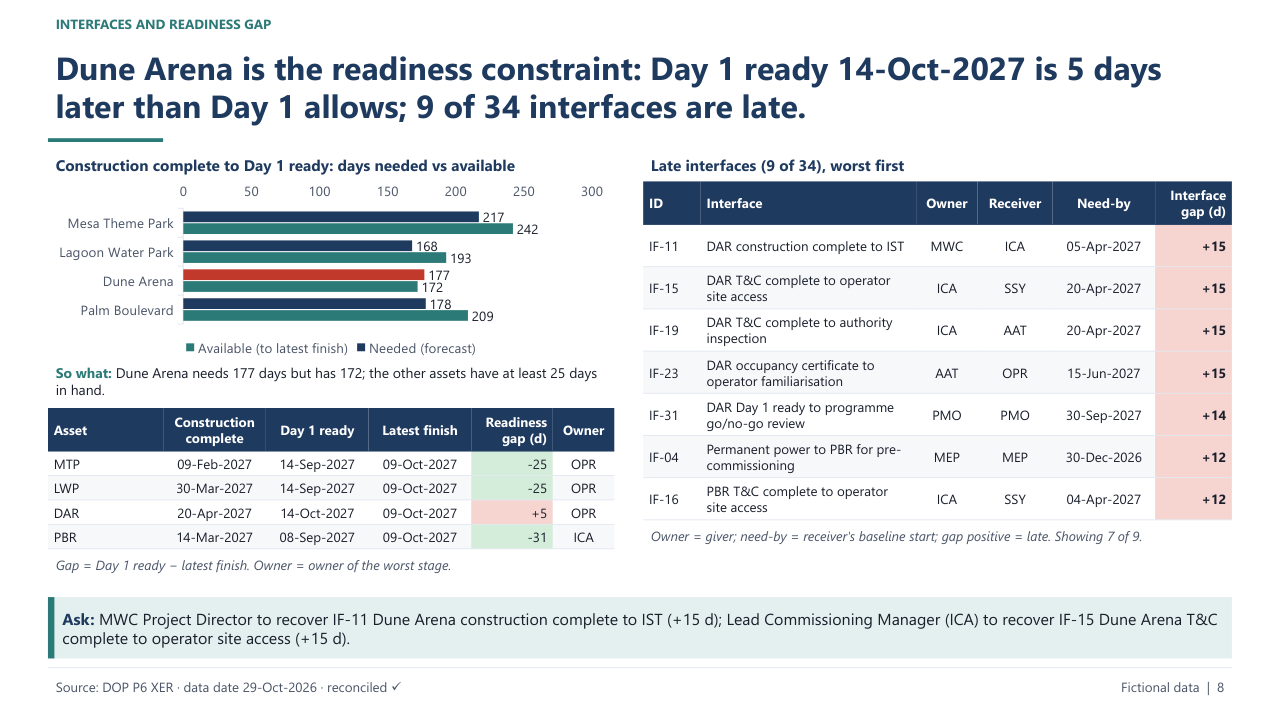

This screenshot's page, from the dashboard's own definition file:
{"tool":"powerbi","page":{"name":"Interfaces & readiness","canvas":[1280,720],"ordinal":3},"visuals":[{"type":"textbox","box":[16,8,1032,56],"z":1000},{"type":"slicer","fields":{"Values":["dim_snapshot.data_date"]},"box":[1064,8,200,56],"z":2000},{"type":"card","fields":{"Values":["_Measures.Title - Interfaces and readiness"]},"box":[16,80,1248,48],"z":3000},{"type":"cardVisual","title":"Interfaces and readiness for the selected update","fields":{"Data":["_Measures.Interfaces late","_Measures.Interfaces at risk","_Measures.Interface gap (max)","_Measures.Readiness gap","_Measures.Readiness stages late"]},"box":[16,144,1248,120],"z":4000},{"type":"pivotTable","title":"Readiness chain by asset: forecast and gap to the date that protects Day 1 (calendar days; positive = late)","fields":{"Rows":["fact_readiness.asset_code"],"Columns":["fact_readiness.stage"],"Values":["Max(fact_readiness.forecast)","_Measures.Readiness gap"]},"box":[16,280,1248,204],"z":5000},{"type":"pivotTable","title":"Late interfaces by giver and receiver asset","fields":{"Rows":["fact_interface.giver_asset"],"Columns":["fact_interface.receiver_asset"],"Values":["_Measures.Interfaces late"]},"box":[16,500,420,204],"z":6000},{"type":"tableEx","title":"Interfaces sorted by gap (calendar days; positive = late)","fields":{"Values":["fact_interface.interface_id","fact_interface.description","fact_interface.giver_owner","fact_interface.receiver_owner","fact_interface.need_by","fact_interface.giver_forecast","fact_interface.gap_days","fact_interface.status","dim_activity.activity_id"]},"box":[452,500,812,204],"z":7000}]}

Visuals, with their boxes in screenshot pixels (x1, y1, x2, y2), scaled from the page's 1280x720 canvas onto the 1280x721 screenshot:
textbox: rect(16, 8, 1048, 64)
slicer - dim_snapshot.data_date: rect(1064, 8, 1264, 64)
card - _Measures.Title - Interfaces and readiness: rect(16, 80, 1264, 128)
"Interfaces and readiness for the selected update" cardVisual: rect(16, 144, 1264, 264)
"Readiness chain by asset: forecast and gap to the date that protects Day 1 (calendar days; positive = late)" pivotTable: rect(16, 280, 1264, 485)
"Late interfaces by giver and receiver asset" pivotTable: rect(16, 501, 436, 705)
"Interfaces sorted by gap (calendar days; positive = late)" tableEx: rect(452, 501, 1264, 705)
